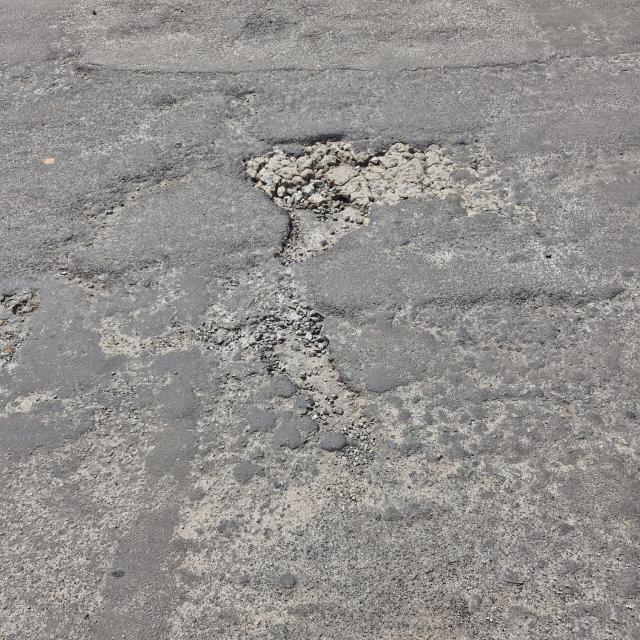pothole: (191, 301, 390, 451), (238, 126, 458, 261), (42, 153, 192, 293), (133, 74, 260, 127), (2, 287, 44, 378), (36, 48, 99, 98)
